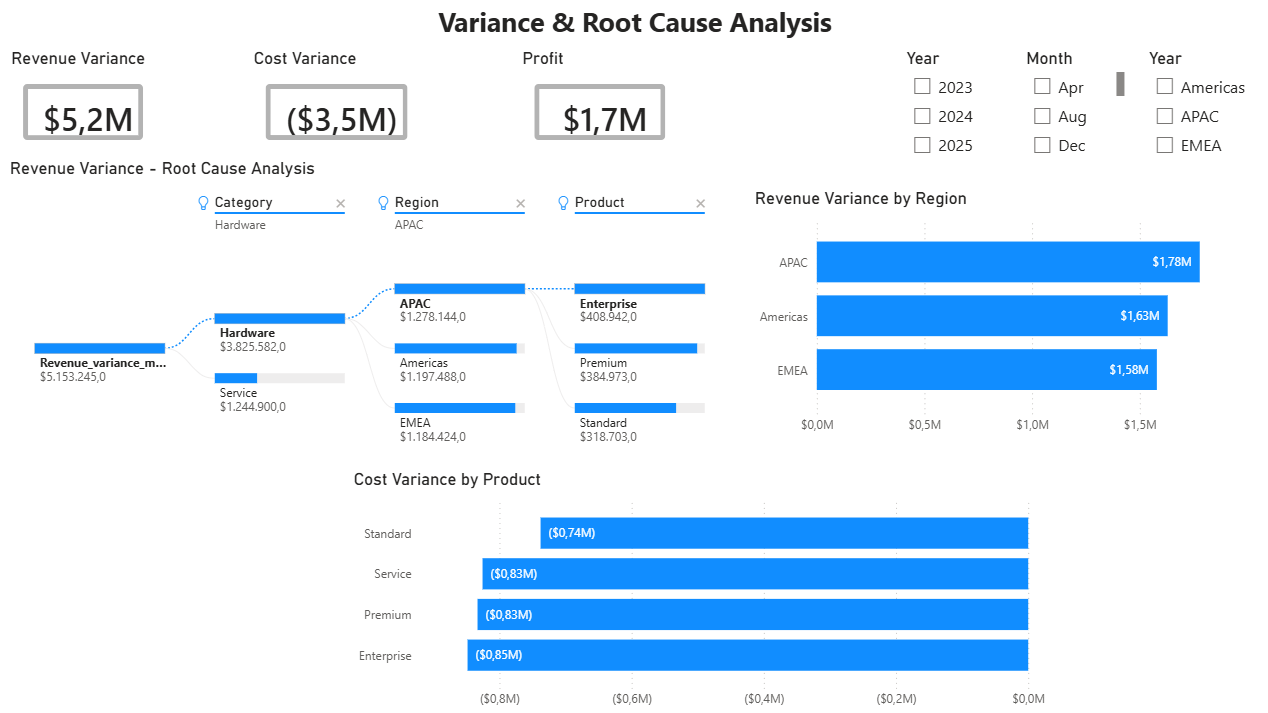

This screenshot's page, from the dashboard's own definition file:
{"tool":"powerbi","page":{"name":"Variance & Root Cause Analysis","canvas":[1280,720],"ordinal":2},"visuals":[{"type":"cardVisual","title":"Revenue Variance","fields":{"Data":["Fact_Sales.Revenue_variance_measure"]},"box":[10.7,50.5,154.4,110.1],"z":0},{"type":"textbox","box":[0,0,1280,49.8],"z":1000},{"type":"cardVisual","title":"Profit","fields":{"Data":["Fact_Sales.Profit_measure"]},"box":[522.5,50,165,110],"z":2000},{"type":"cardVisual","title":"Cost Variance","fields":{"Data":["Fact_Costs.Cost_variance_measure"]},"box":[253.8,50,176.2,110],"z":4000},{"type":"slicer","title":"Year","fields":{"Values":["Dim_Date.Year"]},"box":[906.7,50.5,108.6,139.1],"z":5000},{"type":"slicer","title":"Month","fields":{"Values":["Dim_Date.MonthName"]},"box":[1026.7,50,108.3,121.7],"z":6000},{"type":"slicer","title":"Year","fields":{"Values":["Dim_Region.Region"]},"box":[1148.2,50.5,120.8,139.1],"z":7000},{"type":"decompositionTreeVisual","title":"Revenue Variance - Root Cause Analysis","fields":{"Analyze":["Fact_Sales.Revenue_variance_measure"],"ExplainBy":["Dim_Product.Category","Dim_Region.Region","Dim_Product.Product"]},"box":[10,160,745,296.7],"z":8000},{"type":"barChart","title":"Cost Variance by Product","fields":{"Category":["Dim_Product.Product"],"Y":["Fact_Costs.Cost_variance_measure"]},"box":[353.3,471.7,701.7,248.3],"z":9000},{"type":"barChart","title":"Revenue Variance by Region","fields":{"Category":["Dim_Region.Region"],"Y":["Fact_Sales.Revenue_variance_measure"]},"box":[755,190,513.3,255],"z":10000}]}

Visuals, with their boxes in screenshot pixels (x1, y1, x2, y2), scaled from the page's 1280x720 canvas onto the 1268x713 screenshot:
"Revenue Variance" cardVisual: (x1=11, y1=50, x2=164, y2=159)
textbox: (x1=0, y1=0, x2=1267, y2=49)
"Profit" cardVisual: (x1=518, y1=50, x2=681, y2=158)
"Cost Variance" cardVisual: (x1=251, y1=50, x2=426, y2=158)
"Year" slicer: (x1=898, y1=50, x2=1006, y2=188)
"Month" slicer: (x1=1017, y1=50, x2=1124, y2=170)
"Year" slicer: (x1=1137, y1=50, x2=1257, y2=188)
"Revenue Variance - Root Cause Analysis" decompositionTreeVisual: (x1=10, y1=158, x2=748, y2=452)
"Cost Variance by Product" barChart: (x1=350, y1=467, x2=1045, y2=712)
"Revenue Variance by Region" barChart: (x1=748, y1=188, x2=1256, y2=441)
